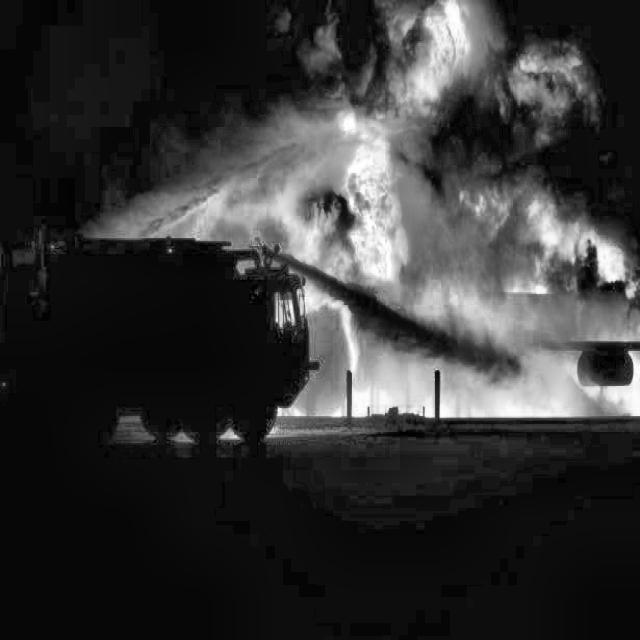fire: (104, 4, 640, 540)
